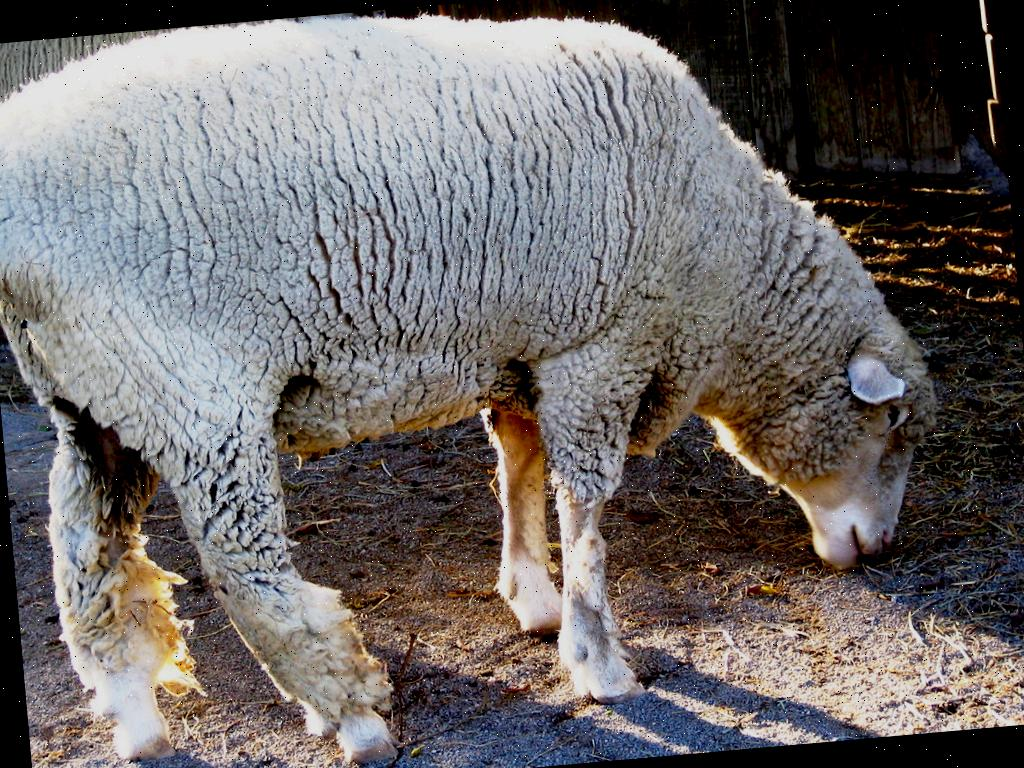Sheep: (0, 0, 965, 768)
